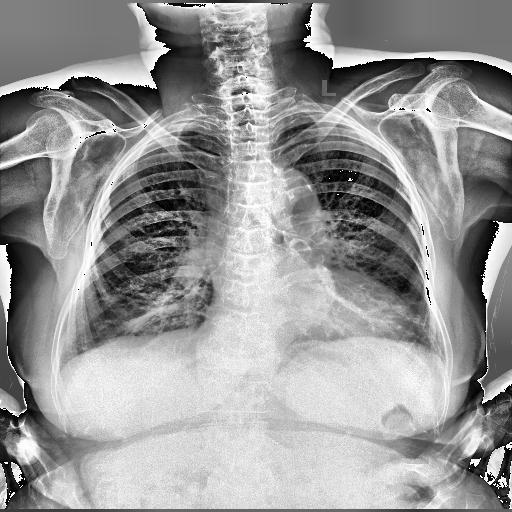0- Aortic enlargement: (248, 167, 324, 233), (250, 166, 324, 224), (264, 167, 318, 217)
11- Pleural thickening: (292, 111, 308, 117)
13- Pulmonary fibrosis: (122, 283, 202, 330), (118, 306, 170, 336)
2- Calcification: (300, 176, 310, 190)
3- Cardiomegaly: (190, 298, 408, 363), (194, 292, 422, 346), (204, 292, 417, 339)
